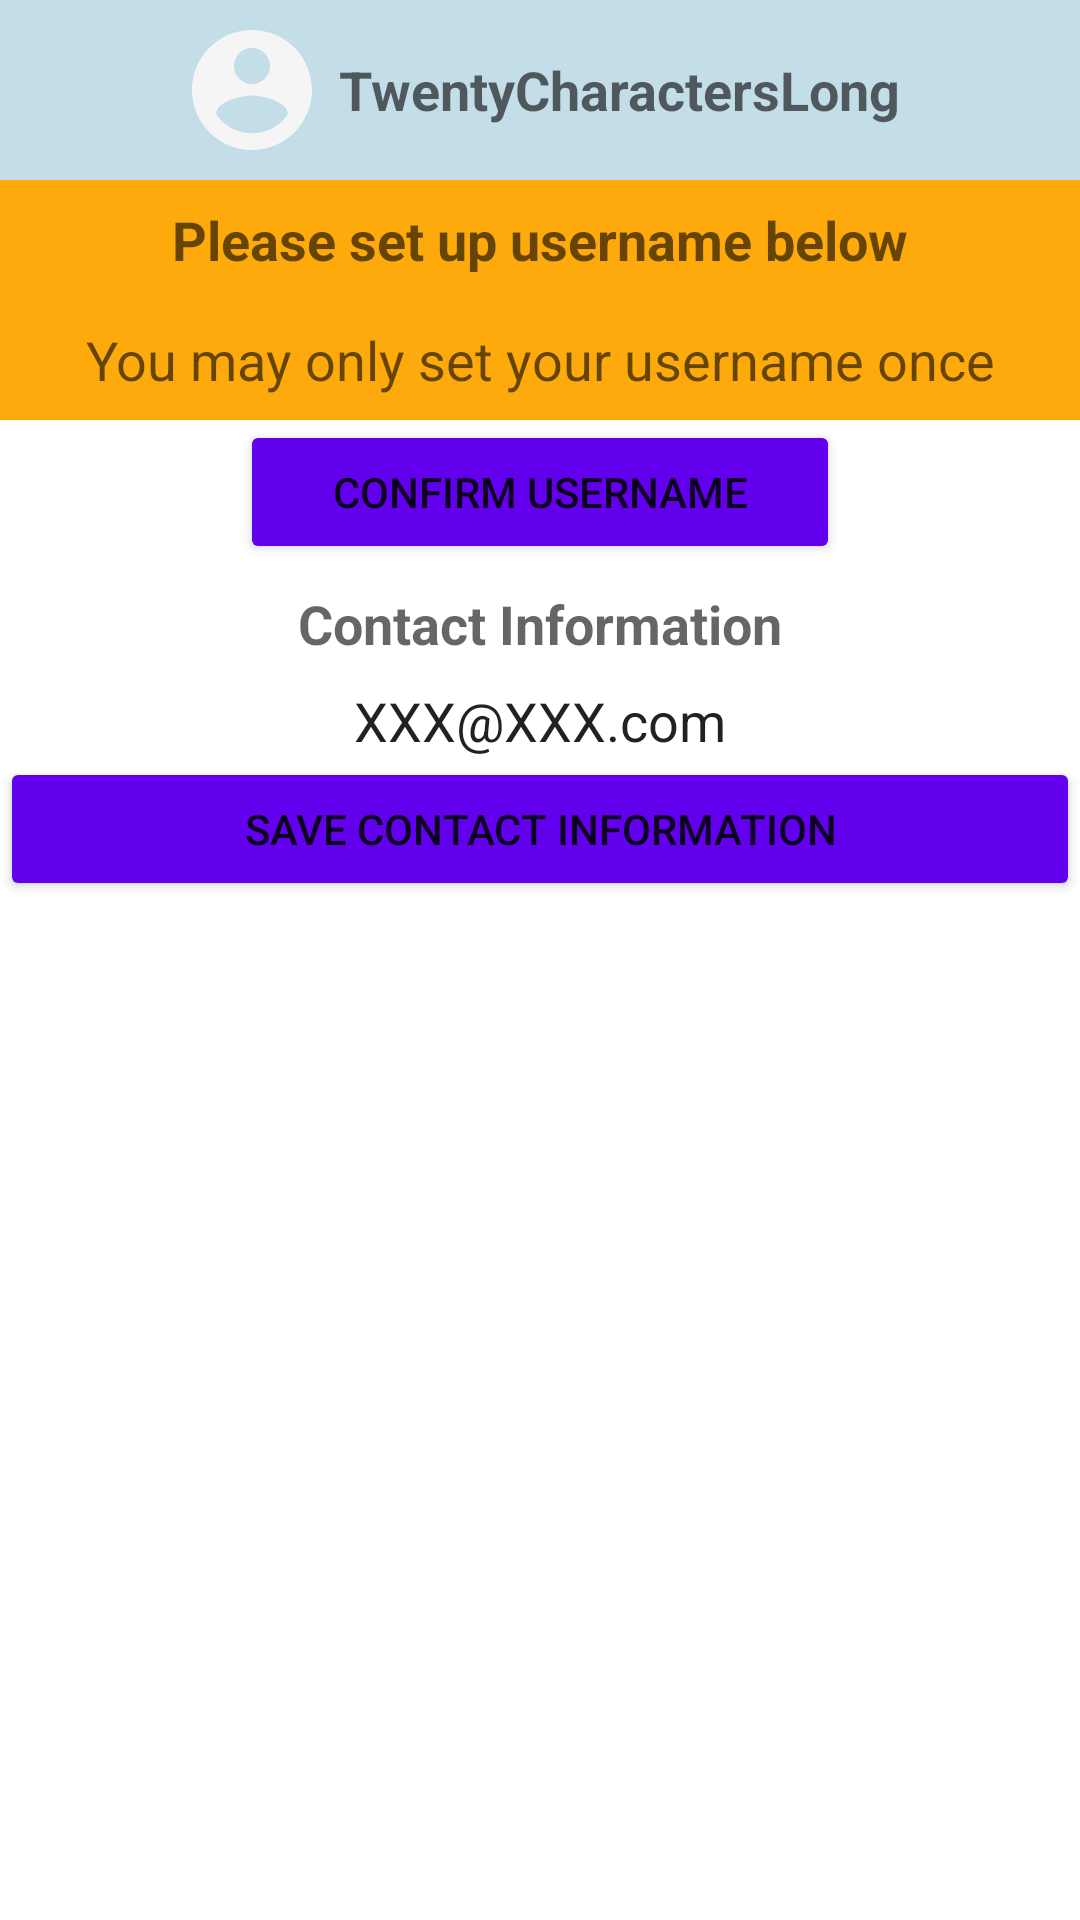

Screen size 1080×1920. Icon name, then its box in pixels as (x1, y1, x2, y2):
account circle: (192, 30, 312, 150)
